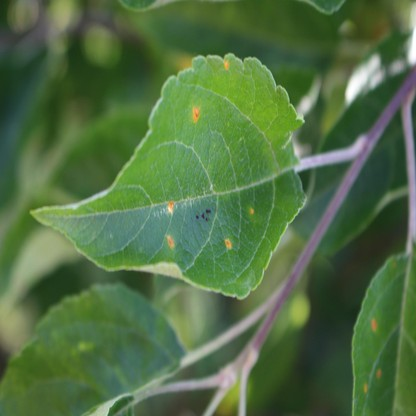rust: (165, 234, 175, 248), (192, 105, 200, 122), (225, 238, 232, 250), (169, 200, 175, 213), (375, 367, 381, 379), (363, 380, 368, 394), (371, 317, 376, 330), (249, 206, 255, 215), (223, 60, 229, 68)
